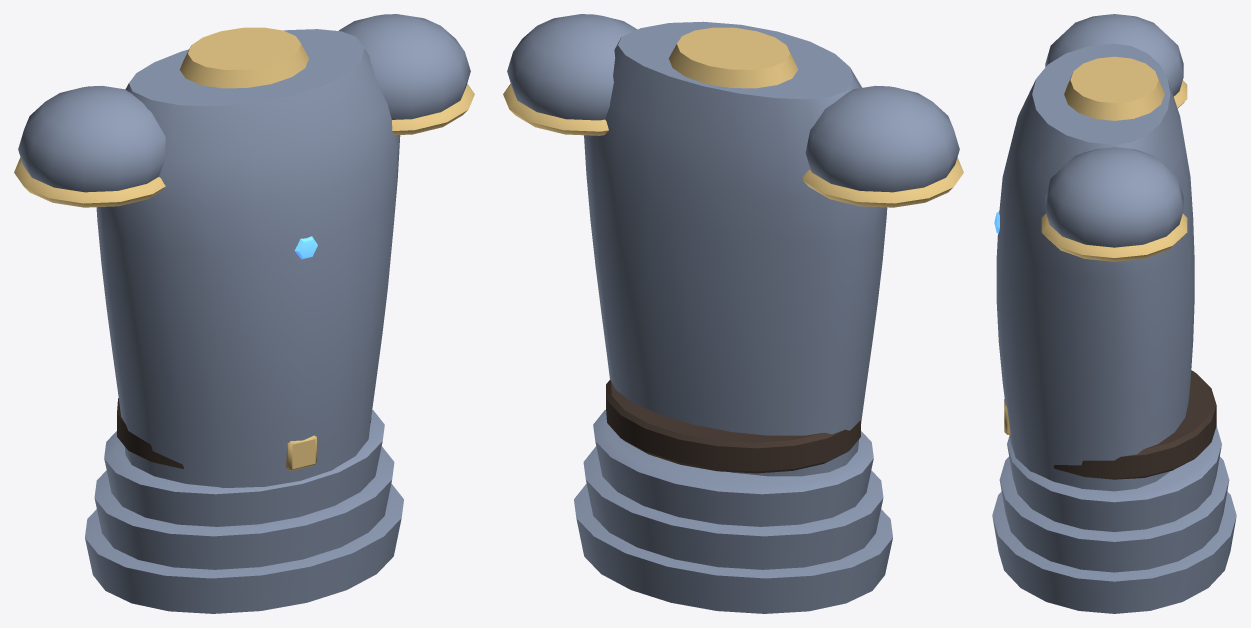
Rendered from tc_royal_guard_cuirass.glb.
The picture shows the model from 3 angles, left to right: view 1: azimuth 30°, elevation 25°; view 2: azimuth 150°, elevation 25°; view 3: azimuth 270°, elevation 25°; orthographic projection. The views are drawn at different scales.
Parts seen in each view (by area): view 1: tc_royal_guard_cuirass; view 2: tc_royal_guard_cuirass; view 3: tc_royal_guard_cuirass.
Part boxes in pixels (x1,y1,x2,y2): tc_royal_guard_cuirass: (14, 14, 474, 613); tc_royal_guard_cuirass: (503, 14, 963, 613); tc_royal_guard_cuirass: (992, 14, 1236, 613).
Size of the model in its own units: 0.5987 by 0.66 by 0.3104.
